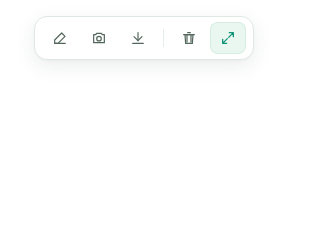
Test case: CanvasNodeToolbar › Esc 收起截帧菜单
The width and height of the screenshot is (320, 243).
Click the button named "截取画面为图片" at (99, 38), box 81,22 -> 117,54
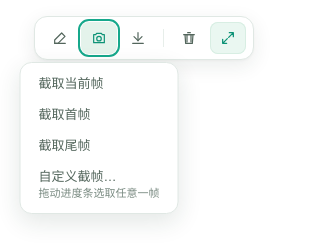
Check: the menu is shown, box 20,62 -> 178,214
Press Escape
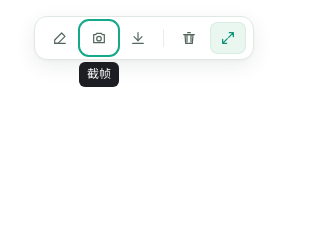
Check: the menu is gone
